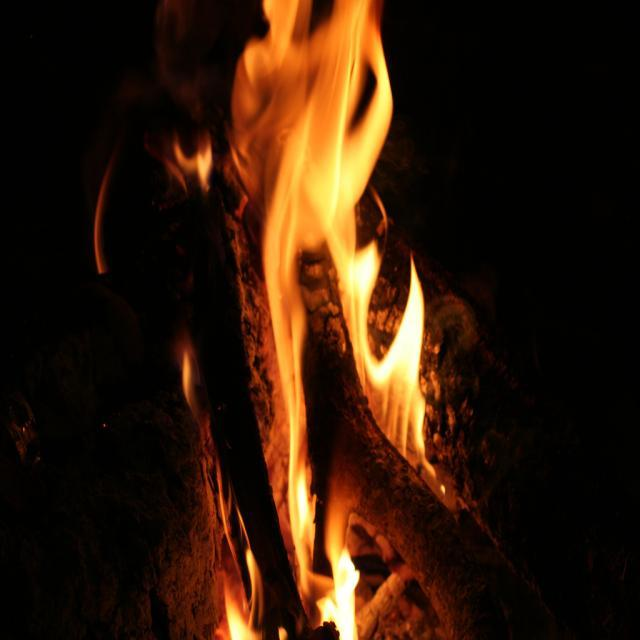Fire: (270, 44, 354, 220), (390, 334, 420, 400), (334, 557, 356, 617)
